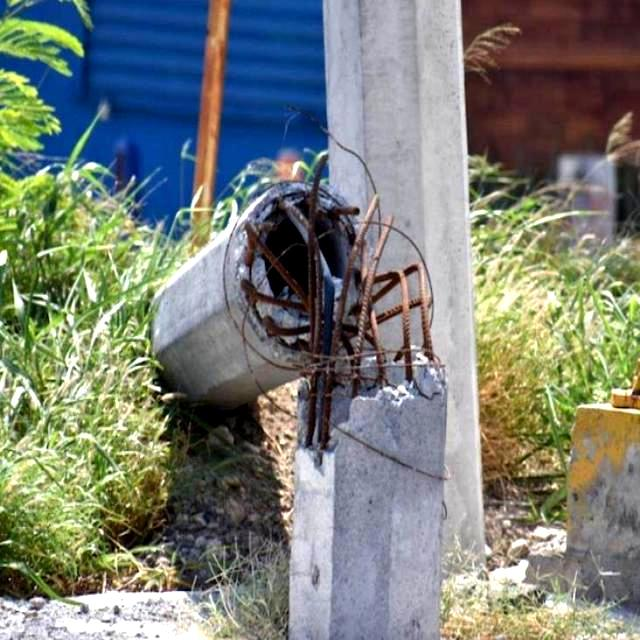Broken Pole: (146, 181, 449, 640)
